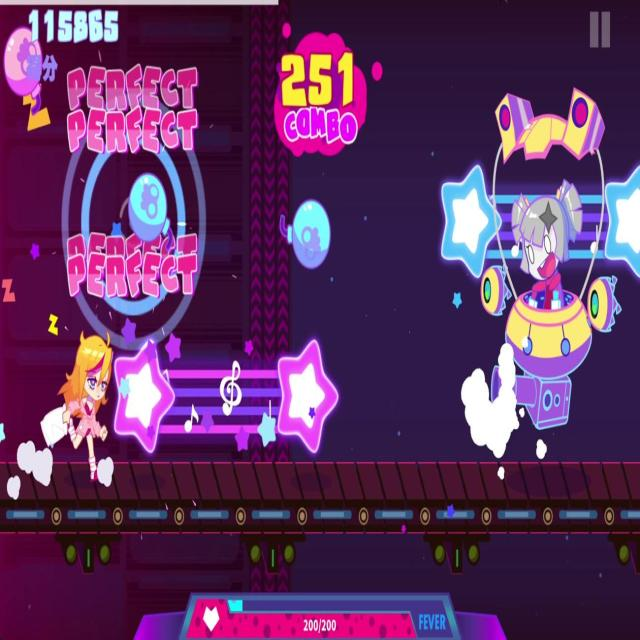jian: (110, 336, 342, 454), (437, 160, 640, 276)
tang: (276, 187, 334, 269), (126, 173, 177, 251)
